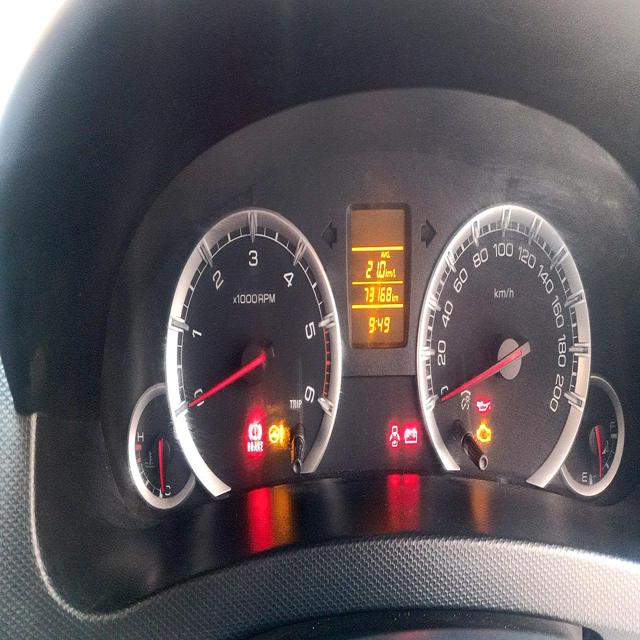odometer: (364, 285, 392, 304)
